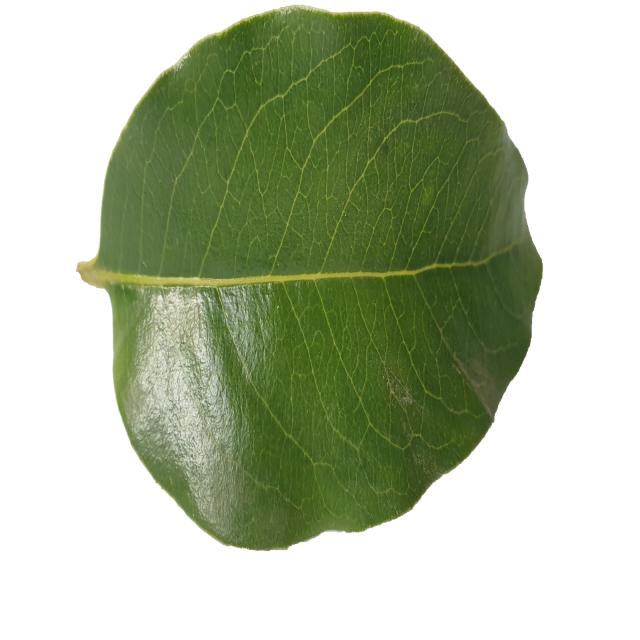Medicinal-Sandalwood: (79, 4, 544, 550)
